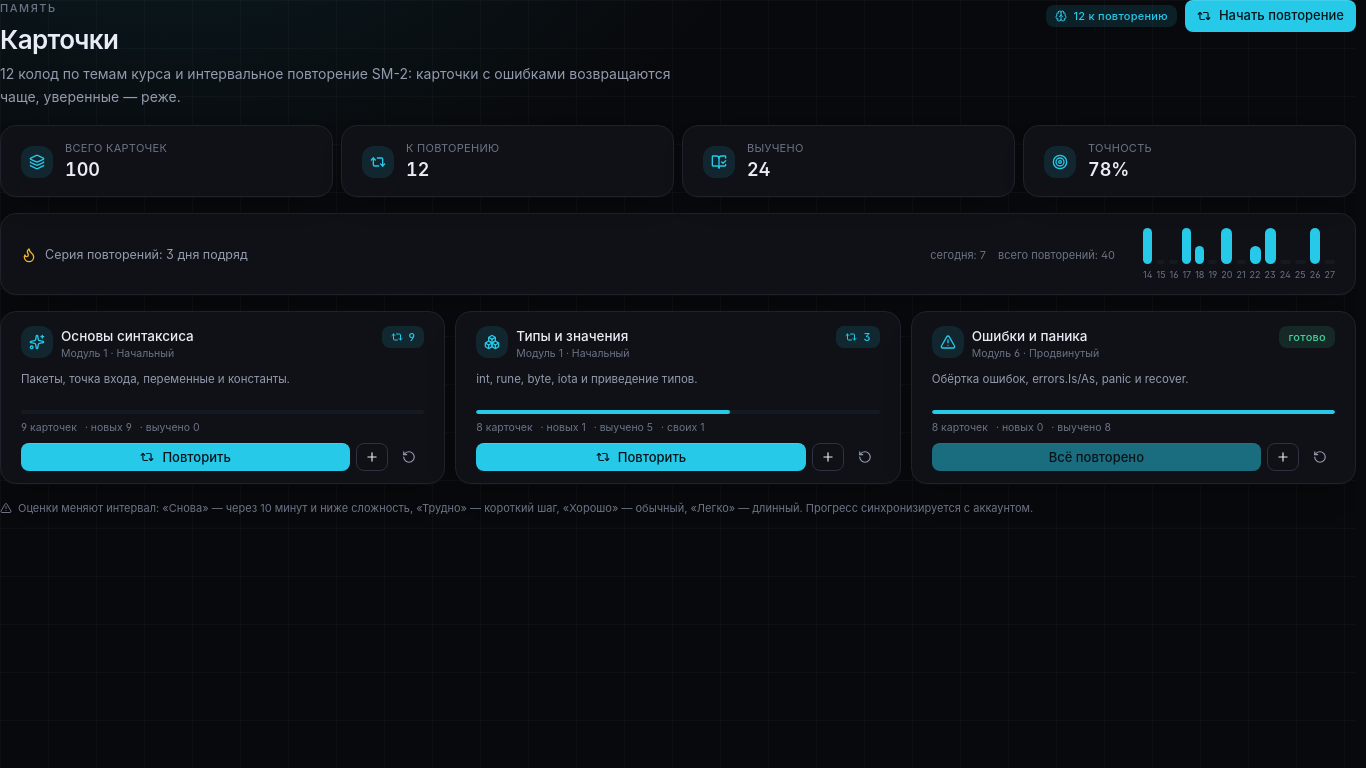
FlashcardsPage › проводит сессию: показывает ответ и сохраняет оценку
The image size is (1366, 768).
Click the button "Начать повторение" at (1270, 16), box [1185,0,1356,32]
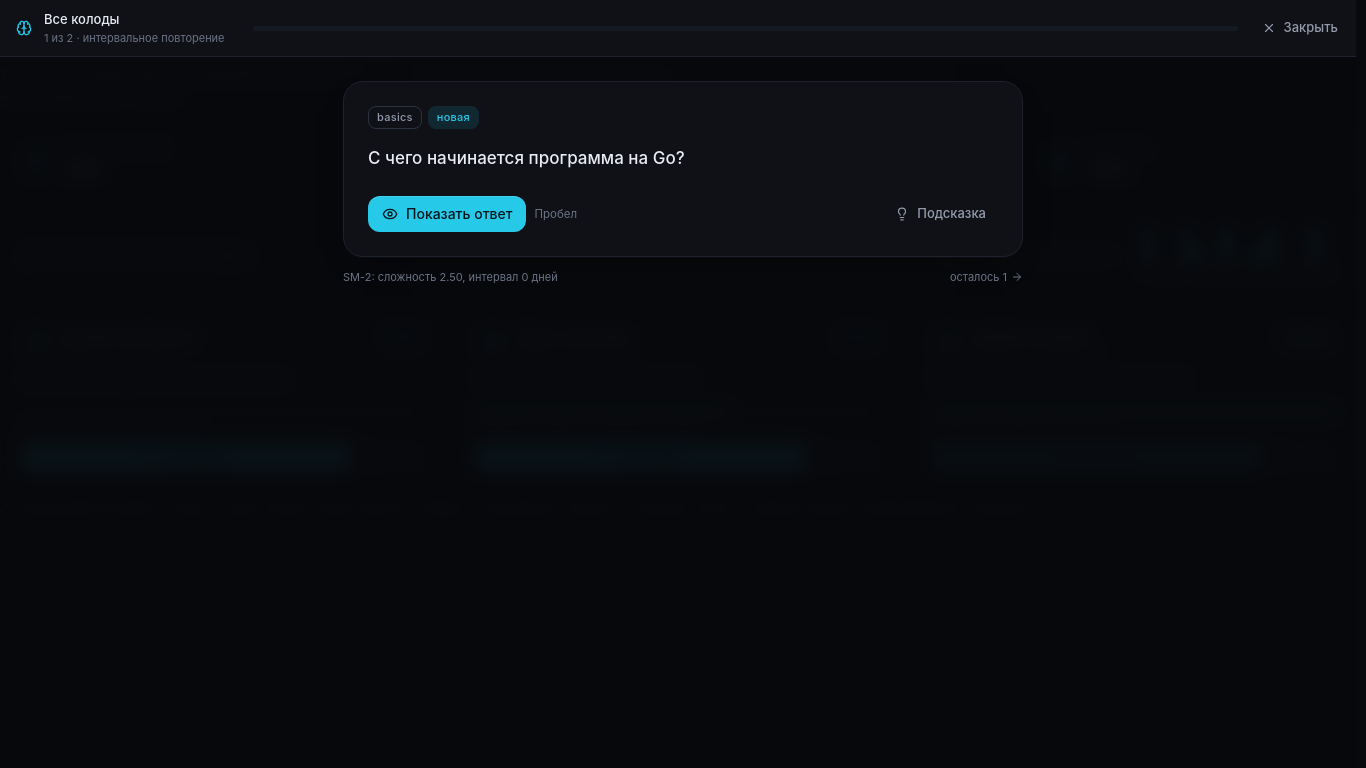
Expected: the text "С `package main` и функции `func main()`." is not shown
Now the text "С чего начинается программа на Go?" is shown, box [368,148,685,168]
Click the button "Показать ответ" at (447, 214), box [368,196,526,232]
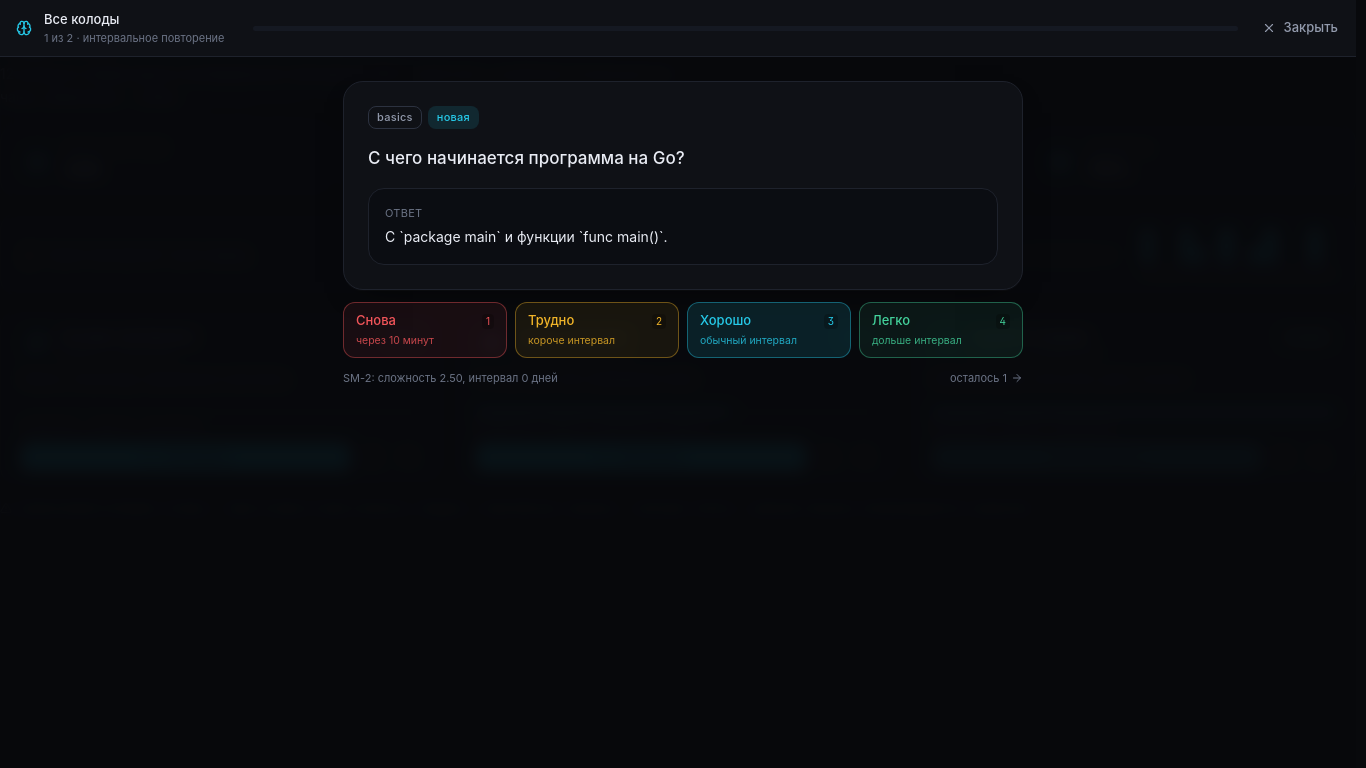
Now the text "С `package main` и функции `func main()`." is shown, box [385,228,668,245]
Click the button "Хорошо 3 обычный интервал" at (769, 330), box [687,302,851,358]
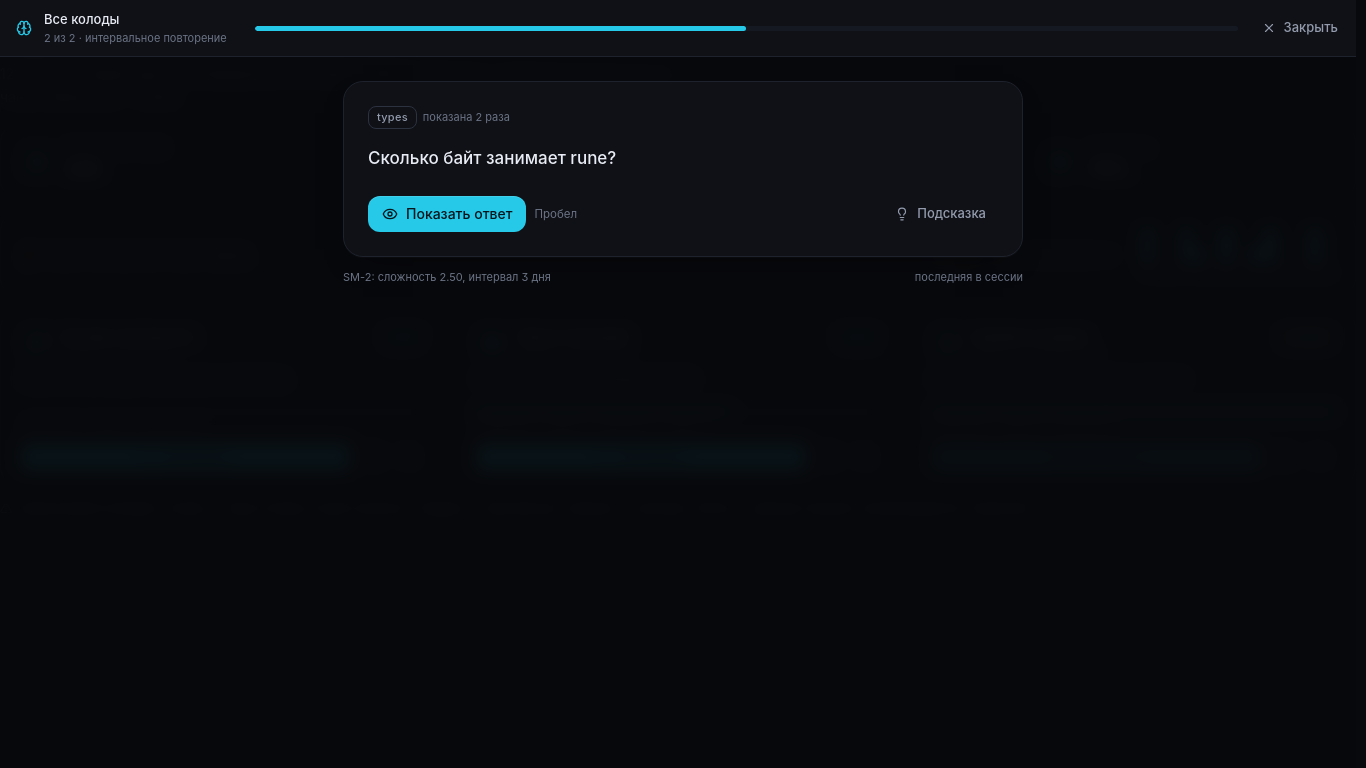
Now the text "Сколько байт занимает rune?" is shown, box [368,148,616,168]
